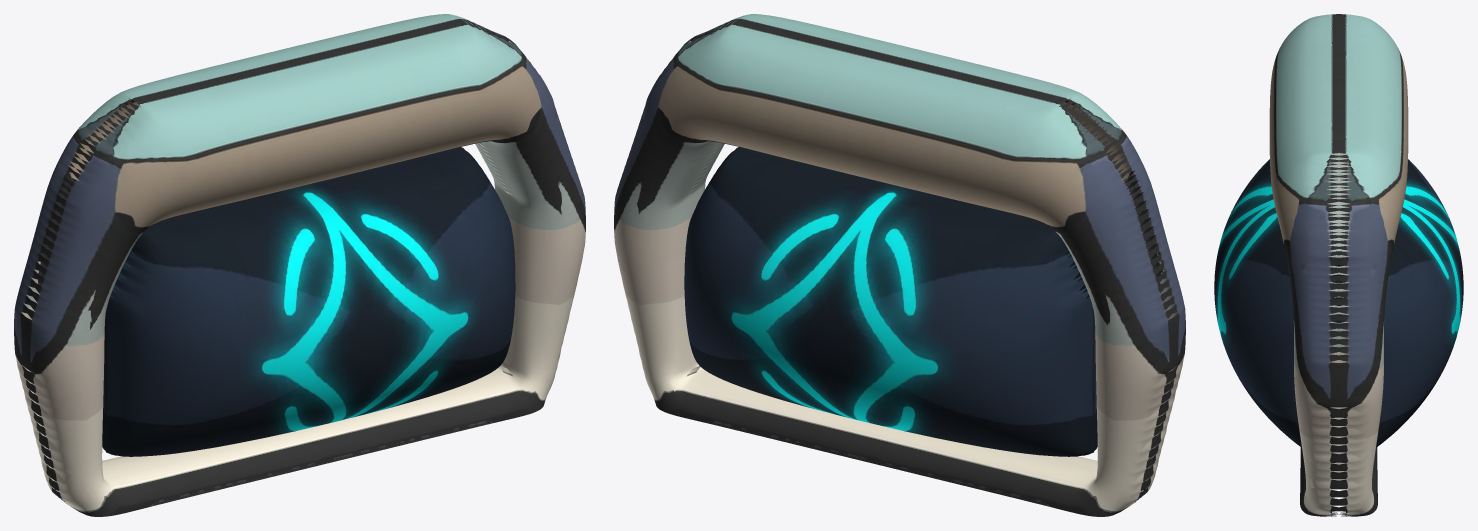
Rendered from hatch_display.glb.
The picture shows the model from 3 angles, left to right: view 1: azimuth 30°, elevation 25°; view 2: azimuth 150°, elevation 25°; view 3: azimuth 270°, elevation 25°; orthographic projection. The views are drawn at different scales.
Parts seen in each view (by area): view 1: hatch_display; view 2: hatch_display; view 3: hatch_display.
Part boxes in pixels (<box>): hatch_display: <box>14,14,585,516</box>; hatch_display: <box>614,14,1185,516</box>; hatch_display: <box>1214,14,1463,516</box>.
Size of the model in its own units: 0.989 by 0.6671 by 0.4488.
1 material, 1 textured.
